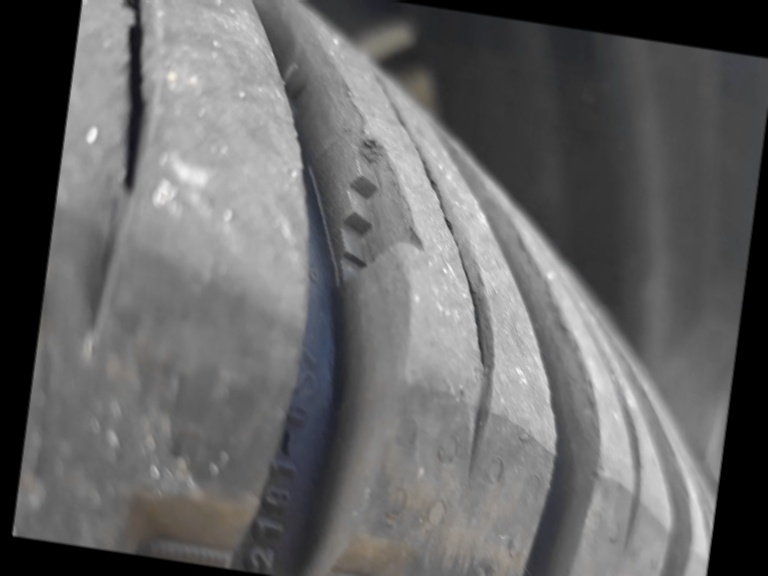temoin:90: (283, 101, 450, 311)
